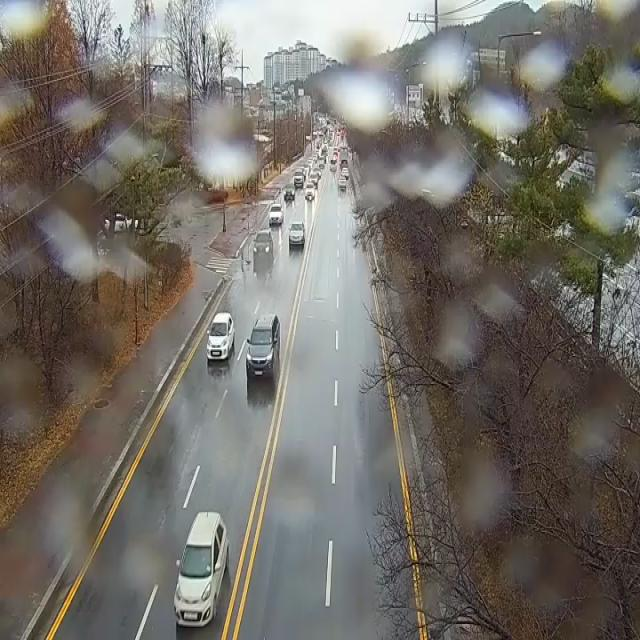Car: (174, 511, 229, 626), (247, 313, 280, 381), (207, 312, 234, 360), (105, 214, 138, 232), (253, 232, 273, 258), (289, 222, 305, 244), (269, 204, 283, 225), (294, 170, 304, 189), (284, 183, 294, 201), (305, 183, 315, 199), (309, 174, 318, 188), (314, 168, 322, 179), (338, 178, 346, 188), (329, 160, 336, 171), (318, 156, 324, 168), (342, 168, 349, 178)
Truck: (340, 148, 348, 167)
